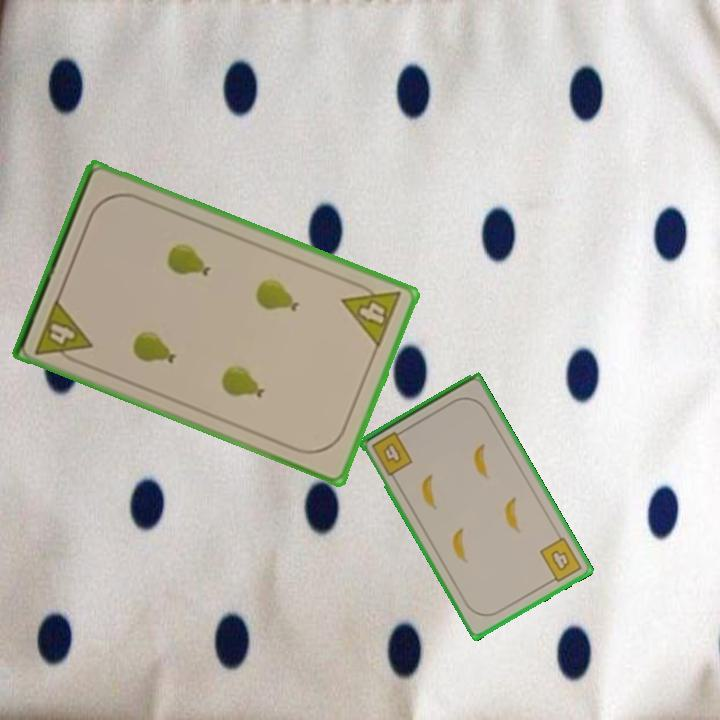4b: (536, 534, 585, 587), (368, 426, 416, 478)
4p: (338, 275, 405, 351), (31, 295, 96, 368)
